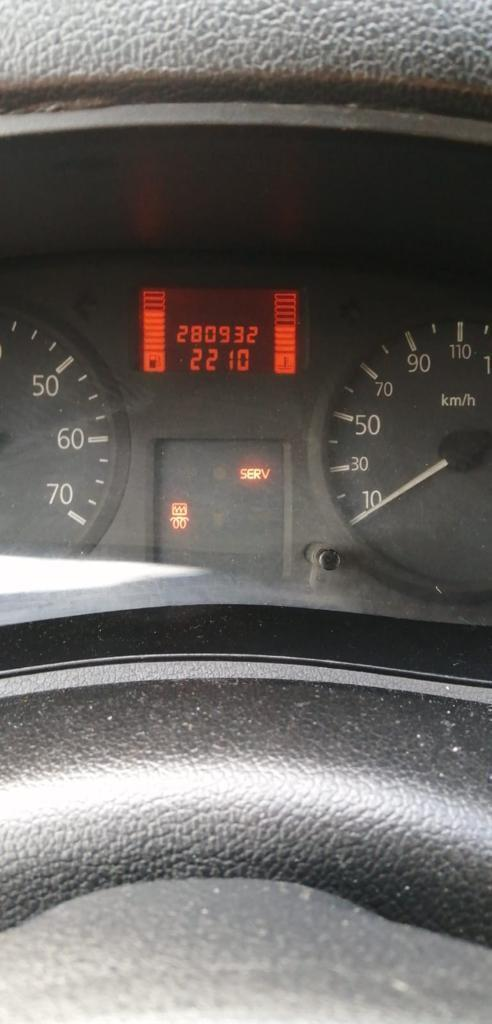0: (236, 348, 249, 371), (203, 324, 217, 343)
1: (225, 347, 235, 370)
2: (204, 347, 218, 370), (189, 347, 202, 371), (246, 324, 259, 344), (175, 323, 188, 343)
3: (232, 324, 244, 343)
8: (189, 324, 203, 343)
9: (218, 325, 230, 343)
odometer: (134, 284, 302, 377)
